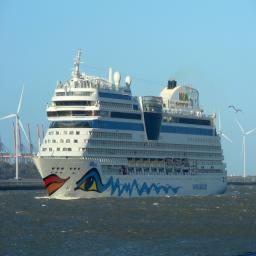cruises: (33, 48, 231, 201)
